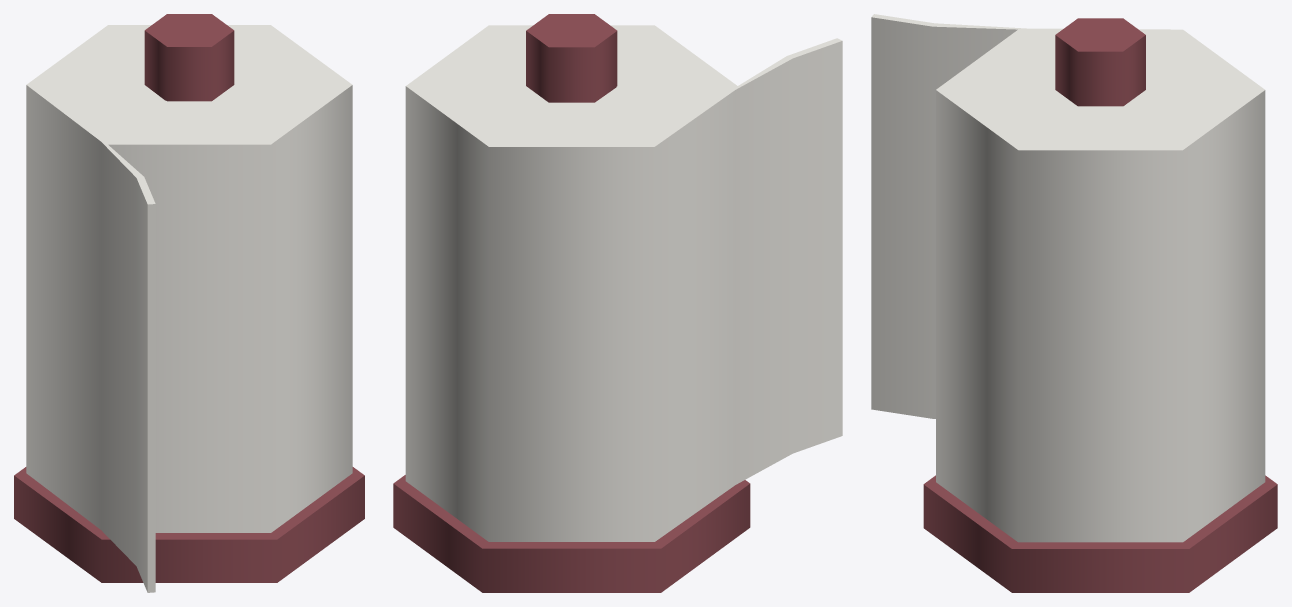
File: SM_Paper_Roll_01.fbx
3 views of the same model, side by side, from view 1: azimuth 30°, elevation 25°; view 2: azimuth 150°, elevation 25°; view 3: azimuth 270°, elevation 25° (orthographic).
Parts seen in each view (by area): view 1: SM_Paper_Roll_01; view 2: SM_Paper_Roll_01; view 3: SM_Paper_Roll_01.
Part boxes in pixels (x1,y1,x2,y2): SM_Paper_Roll_01: [14, 14, 364, 592]; SM_Paper_Roll_01: [393, 14, 842, 592]; SM_Paper_Roll_01: [871, 14, 1277, 592].
Size of the model in its own units: 20.41 by 33.36 by 24.92.
